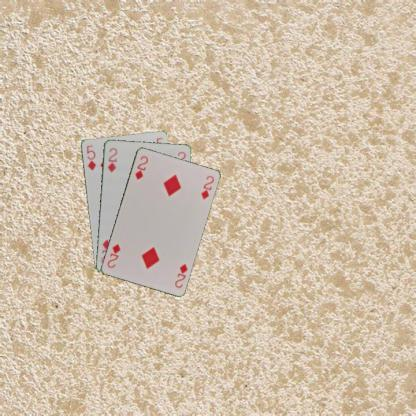2d: (172, 260, 189, 289), (132, 153, 149, 181), (105, 145, 118, 173)
5d: (84, 142, 97, 172)
